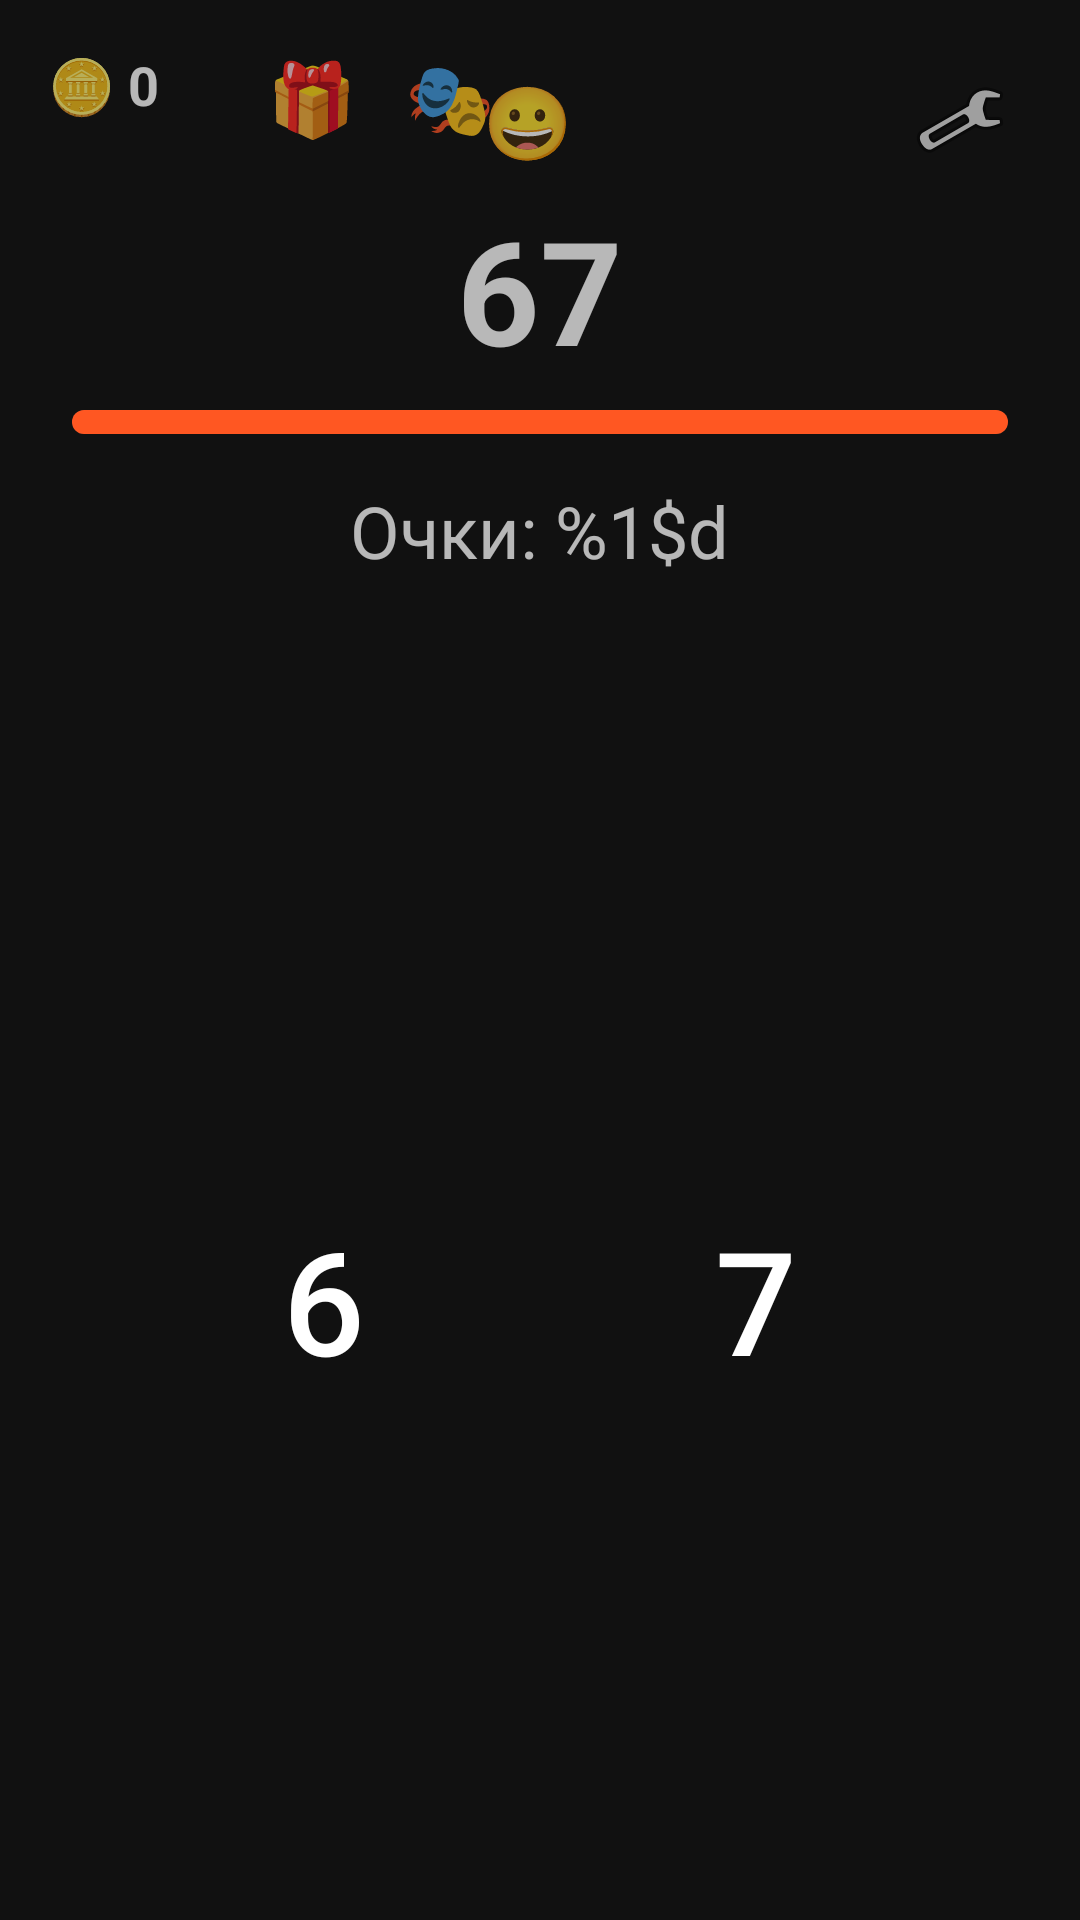

Icons on this 1080w x 1920h Android screen, each with its box as bbox=(x1, y1, x2, y2):
Настройки: bbox=(920, 90, 1000, 150)
